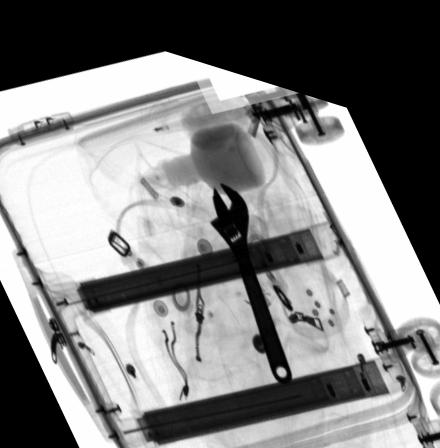Wrench: (208, 167, 291, 366)
